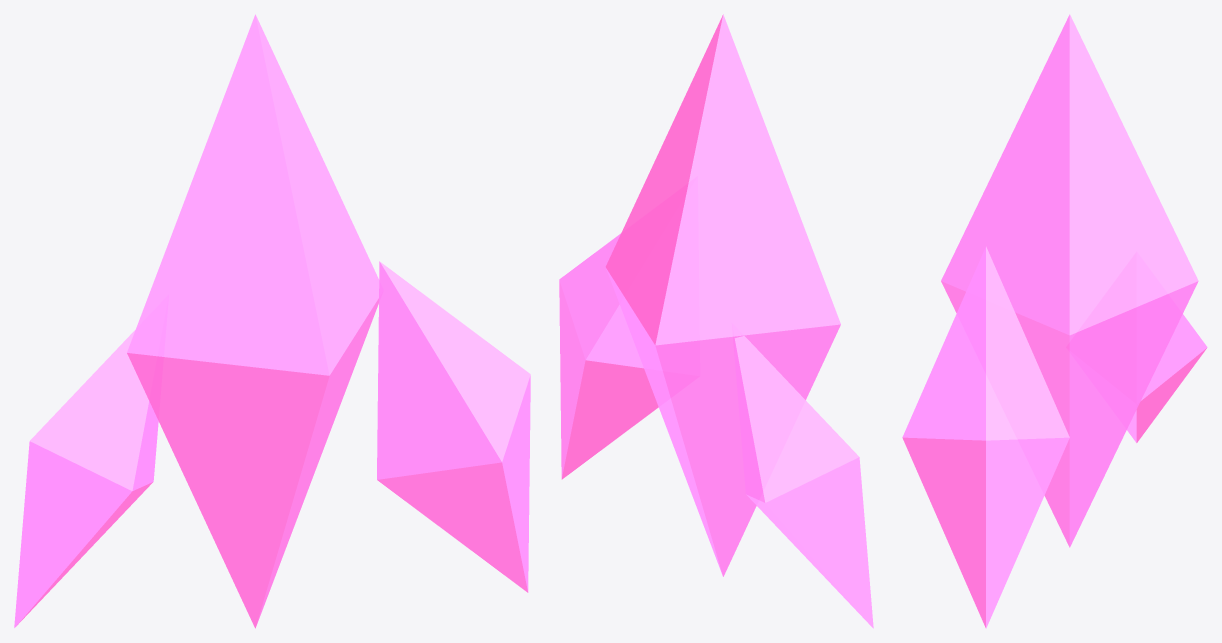
The model's file is crystal.glb.
3 views of the same model, side by side, from view 1: azimuth 30°, elevation 25°; view 2: azimuth 150°, elevation 25°; view 3: azimuth 270°, elevation 25° (orthographic). The views are drawn at different scales.
Size of the model in its own units: 0.515 by 0.704 by 0.3648.
